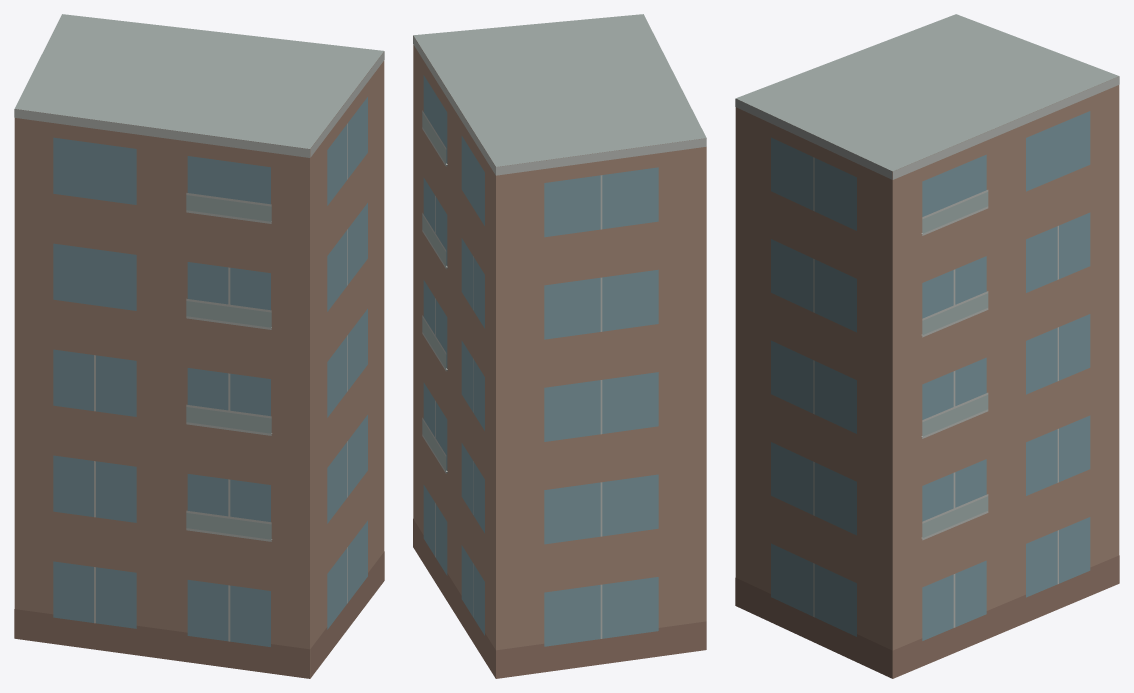
Rendered from survey-upis-33031041.glb.
3 views of the same model, side by side, from view 1: azimuth 30°, elevation 25°; view 2: azimuth 150°, elevation 25°; view 3: azimuth 270°, elevation 25° (orthographic). The views are drawn at different scales.
Parts seen in each view (by area): view 1: survey-upis-33031041.tmp; view 2: survey-upis-33031041.tmp; view 3: survey-upis-33031041.tmp.
Boxes of the visible parts, bbox=[...] form: survey-upis-33031041.tmp: bbox=[14, 14, 384, 678]; survey-upis-33031041.tmp: bbox=[413, 14, 706, 678]; survey-upis-33031041.tmp: bbox=[735, 14, 1119, 678].
Bounding box in the file's own units: 9.59 × 14.4 × 9.88.
